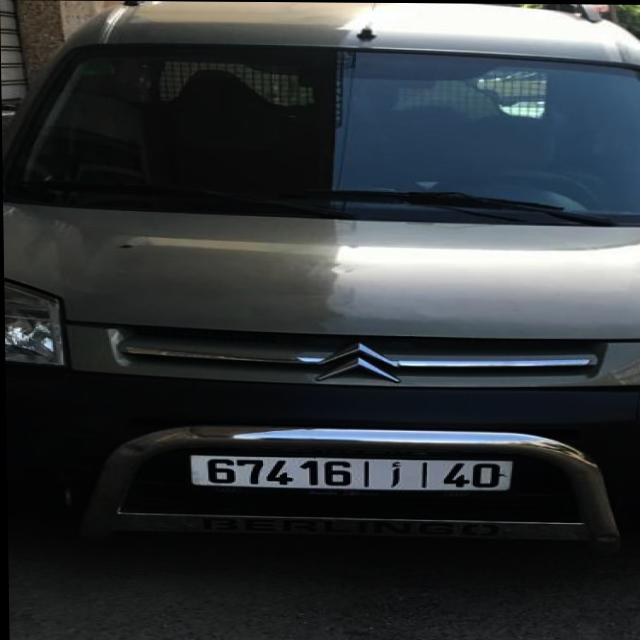License-Plate: (188, 457, 512, 490)
